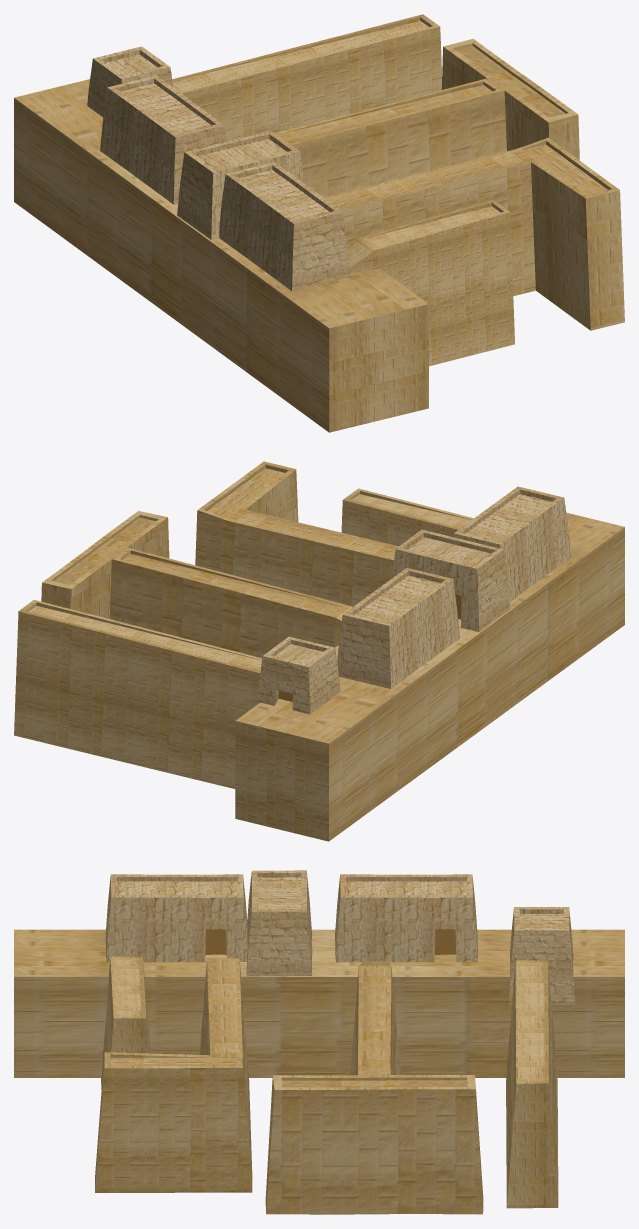
The model's file is Egyptian Port 2.obj.
3 renders of one model, top to bottom at view 1: azimuth 30°, elevation 25°; view 2: azimuth 150°, elevation 25°; view 3: azimuth 270°, elevation 25°, orthographic. The views are drawn at different scales.
Parts seen in each view (by area): view 1: Cube, Cube.000_Cube.047, Cube.001_Cube.049, Cube.002_Cube.050, Cube.024_Cube.016, Cube.004_Cube.001, Cube.045_Cube.053, Cube.005_Cube.002, Cube.003_Cube.052; view 2: Cube, Cube.002_Cube.050, Cube.001_Cube.049, Cube.000_Cube.047, Cube.045_Cube.053, Cube.004_Cube.001, Cube.005_Cube.002, Cube.003_Cube.052, Cube.024_Cube.016; view 3: Cube, Cube.001_Cube.049, Cube.000_Cube.047, Cube.045_Cube.053, Cube.004_Cube.001, Cube.002_Cube.050, Cube.005_Cube.002, Cube.003_Cube.052, Cube.024_Cube.016.
Part boxes in pixels (x1=…): Cube: x1=14, y1=79, x2=428, y2=432; Cube.000_Cube.047: x1=324, y1=137, x2=624, y2=330; Cube.001_Cube.049: x1=275, y1=39, x2=579, y2=197; Cube.002_Cube.050: x1=172, y1=14, x2=442, y2=141; Cube.024_Cube.016: x1=347, y1=200, x2=514, y2=366; Cube.004_Cube.001: x1=219, y1=162, x2=349, y2=291; Cube.045_Cube.053: x1=100, y1=75, x2=226, y2=204; Cube.005_Cube.002: x1=177, y1=131, x2=304, y2=239; Cube.003_Cube.052: x1=87, y1=46, x2=172, y2=116; Cube: x1=235, y1=512, x2=624, y2=841; Cube.002_Cube.050: x1=14, y1=599, x2=262, y2=788; Cube.001_Cube.049: x1=41, y1=511, x2=352, y2=657; Cube.000_Cube.047: x1=195, y1=461, x2=398, y2=606; Cube.045_Cube.053: x1=337, y1=568, x2=459, y2=688; Cube.004_Cube.001: x1=453, y1=486, x2=570, y2=601; Cube.005_Cube.002: x1=391, y1=529, x2=510, y2=631; Cube.003_Cube.052: x1=257, y1=636, x2=340, y2=714; Cube.024_Cube.016: x1=341, y1=488, x2=473, y2=545; Cube: x1=14, y1=929, x2=624, y2=1077; Cube.001_Cube.049: x1=265, y1=961, x2=483, y2=1214; Cube.000_Cube.047: x1=95, y1=958, x2=252, y2=1192; Cube.045_Cube.053: x1=335, y1=874, x2=477, y2=962; Cube.004_Cube.001: x1=105, y1=874, x2=247, y2=962; Cube.002_Cube.050: x1=506, y1=960, x2=558, y2=1208; Cube.005_Cube.002: x1=246, y1=870, x2=312, y2=976; Cube.003_Cube.052: x1=508, y1=907, x2=575, y2=1004; Cube.024_Cube.016: x1=101, y1=956, x2=150, y2=1089.
Bounding box in the file's own units: 0.5038 × 0.2148 × 0.7171.
3 materials, 3 textured.
